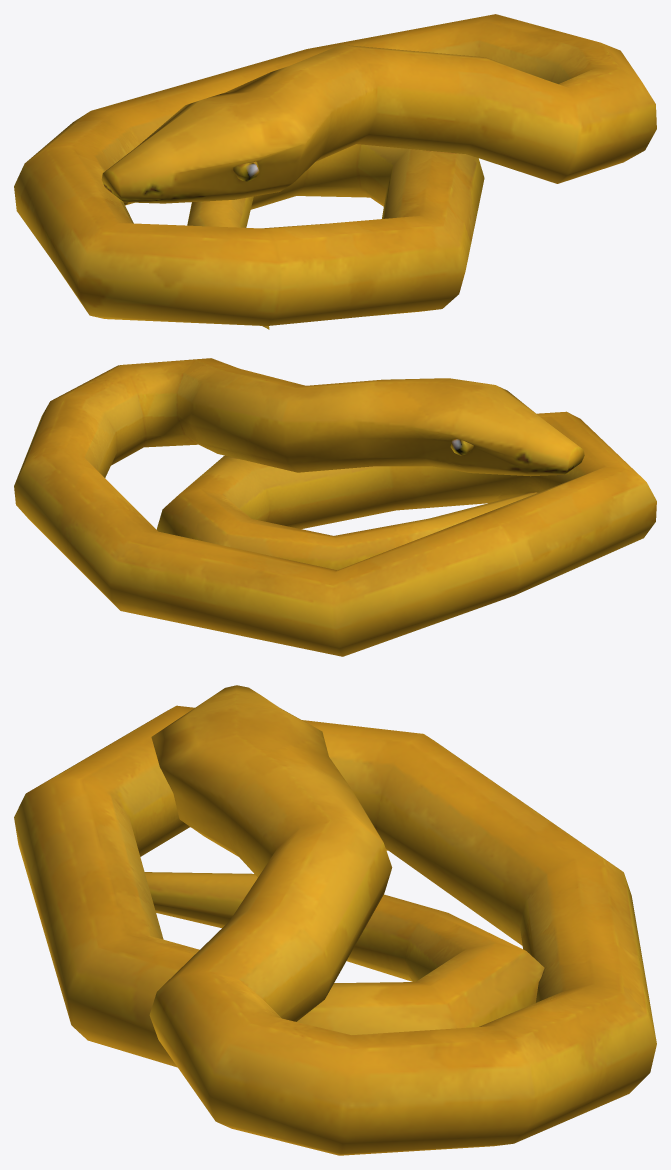
The model's file is McGregor'sPitViper.fbx.
The picture shows the model from 3 angles, top to bottom: view 1: azimuth 30°, elevation 25°; view 2: azimuth 150°, elevation 25°; view 3: azimuth 270°, elevation 25°; orthographic projection. The views are drawn at different scales.
Parts seen in each view (by area): view 1: McGregor'sPitViper; view 2: McGregor'sPitViper; view 3: McGregor'sPitViper.
Boxes of the visible parts, x1=… form: McGregor'sPitViper: x1=14, y1=14, x2=656, y2=329; McGregor'sPitViper: x1=14, y1=358, x2=656, y2=656; McGregor'sPitViper: x1=14, y1=685, x2=656, y2=1155.
Bounding box in the file's own units: 163 × 50.15 × 118.
